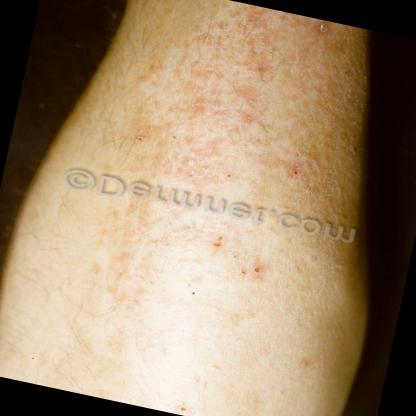Eczema: (62, 0, 368, 214), (52, 192, 293, 382), (244, 336, 344, 408)
